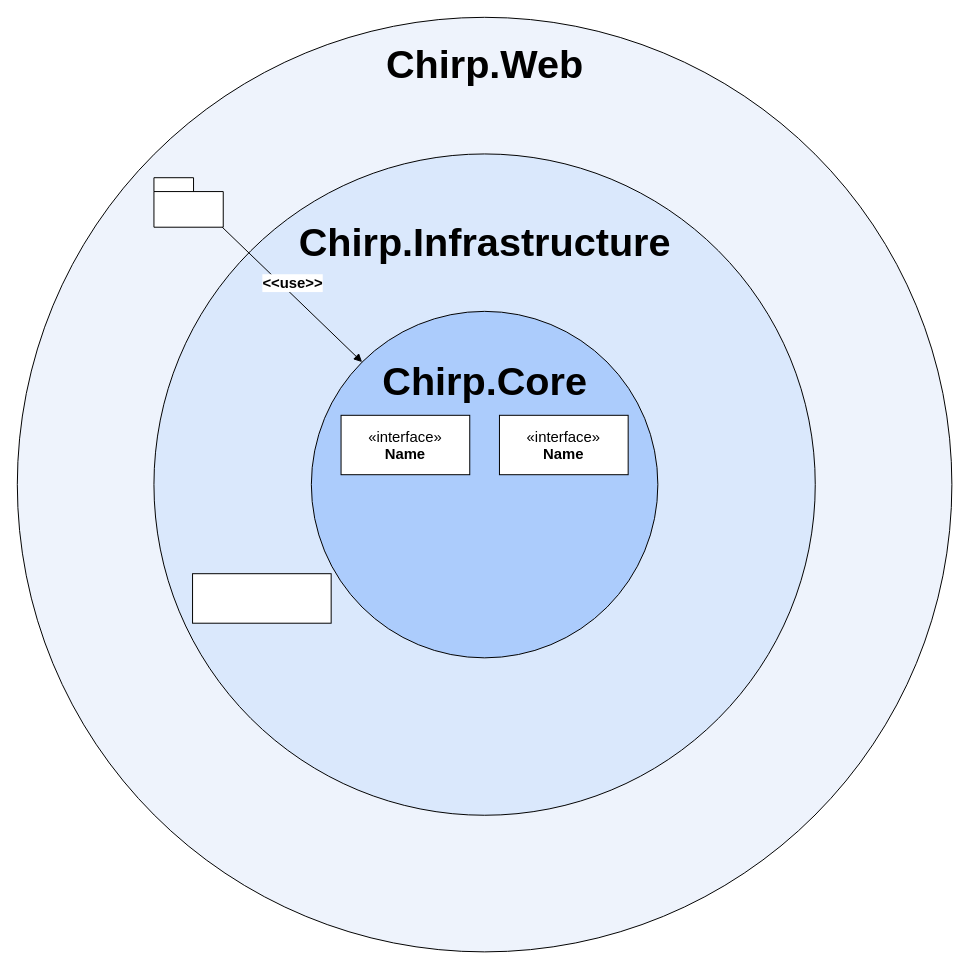
Image size: 969x969. Some labels were removed from this diagram. The shapes that lost their labels are listed below. From the top down, each one's centre as x and y in pixels, then its label:
At point (188, 202): "Pages".
At point (261, 598): "CheepRepository".
